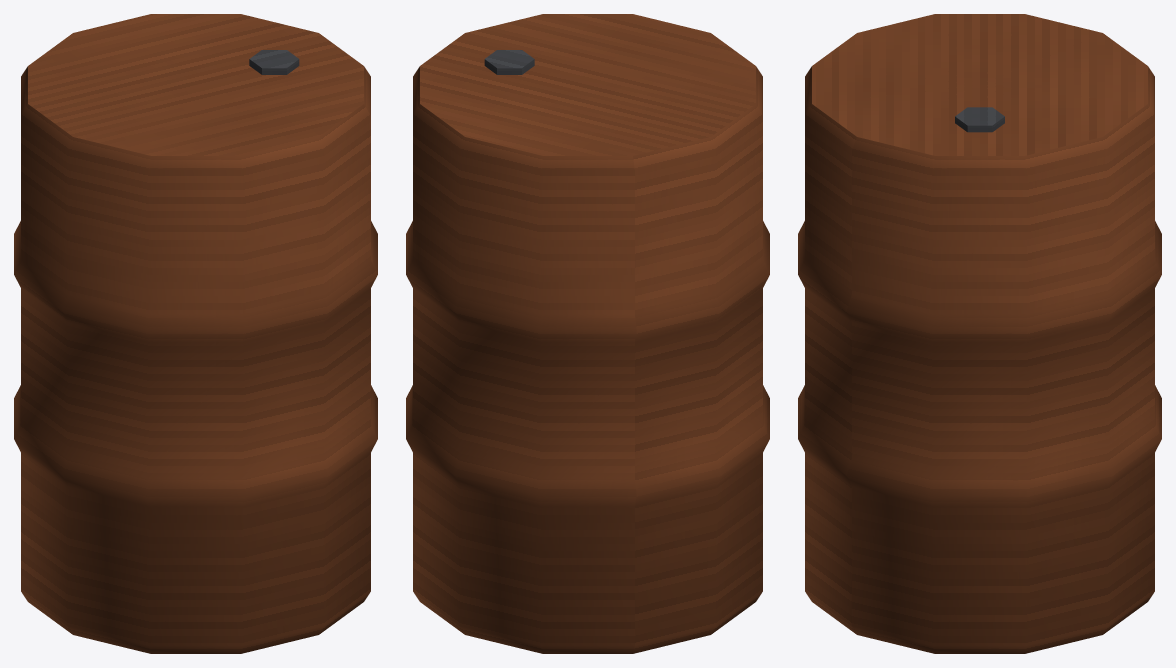
File: tambor_enferrujado.glb
The picture shows the model from 3 angles, left to right: view 1: azimuth 30°, elevation 25°; view 2: azimuth 150°, elevation 25°; view 3: azimuth 270°, elevation 25°; orthographic projection.
Visible parts, largest first — view 1: Inteiro; view 2: Inteiro; view 3: Inteiro.
Boxes of the visible parts, box(x1,y1,x2,y2) form: Inteiro: box(14, 14, 377, 653); Inteiro: box(406, 14, 769, 653); Inteiro: box(798, 14, 1161, 653).
Bounding box in the file's own units: 0.5826 × 0.892 × 0.5826.
1 material, 1 textured.
